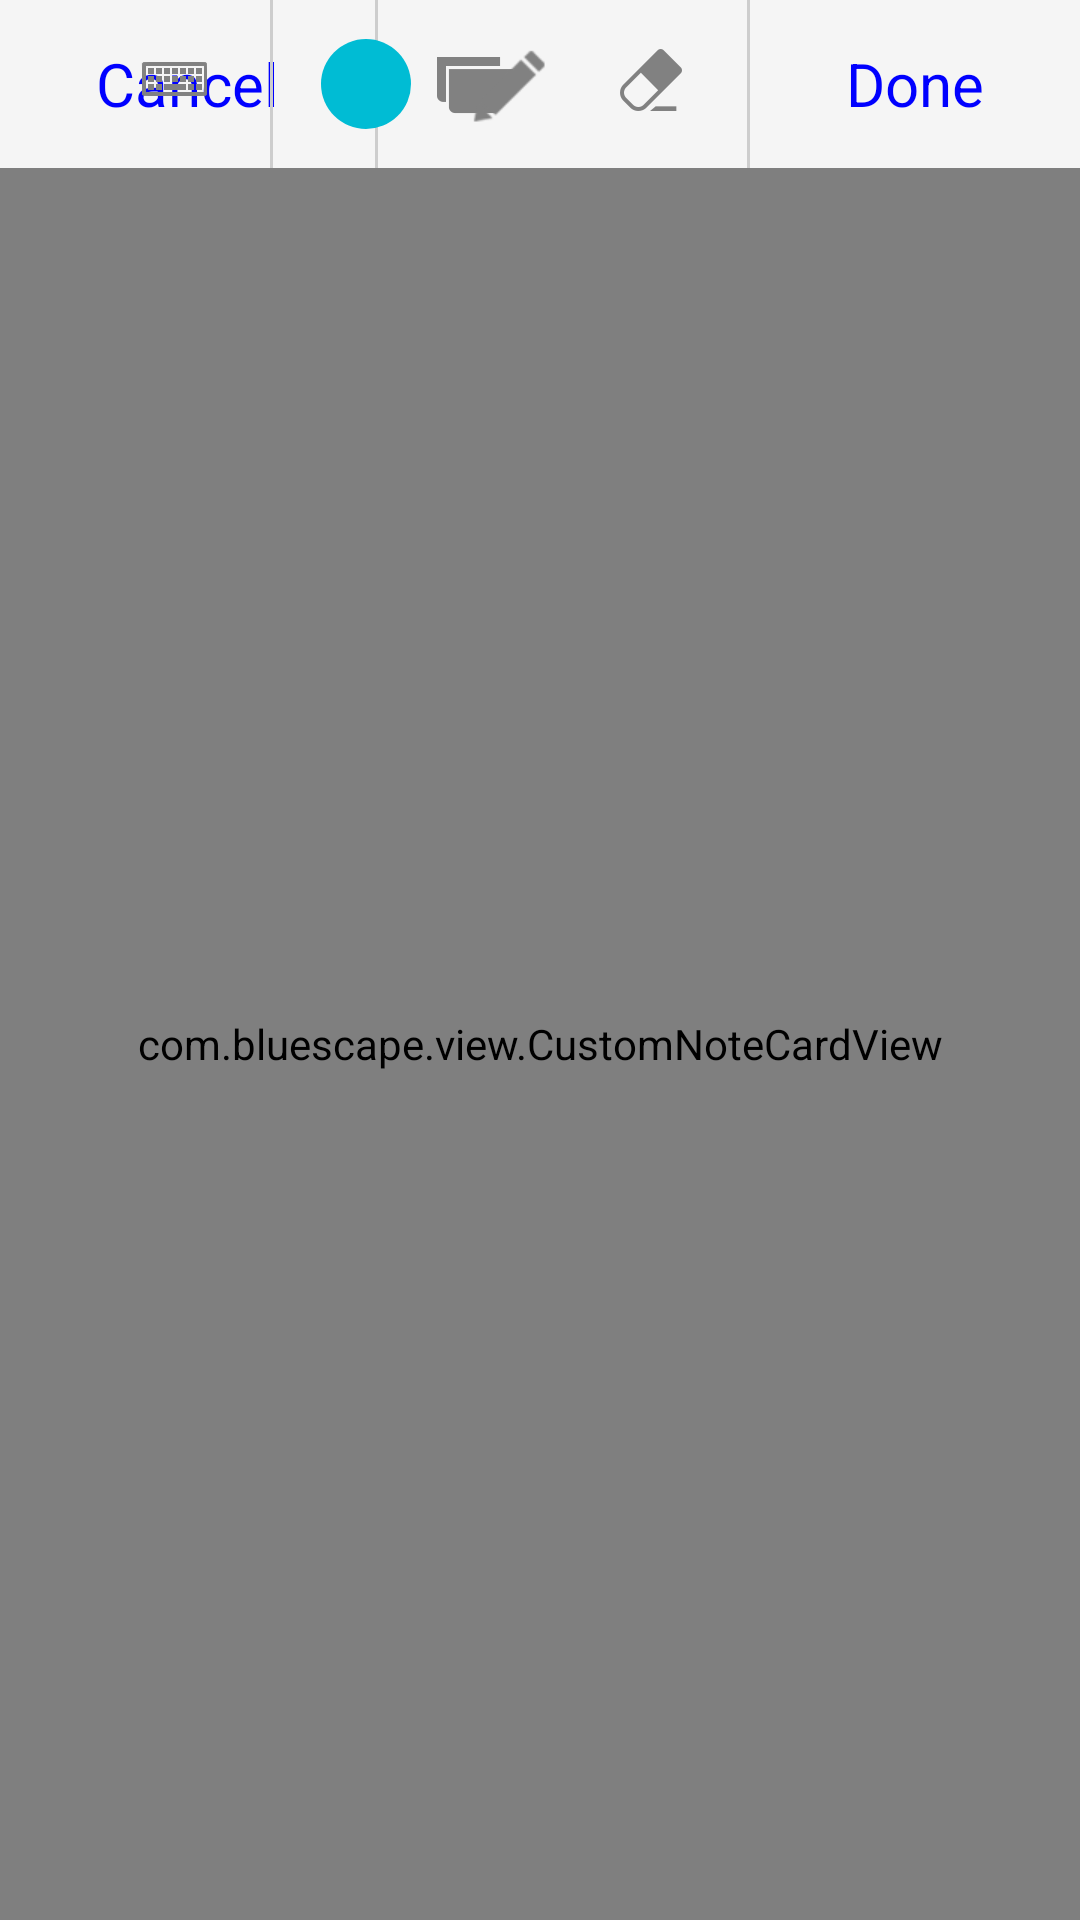

Icons on this 1080x1920 Android screen, each with the point to tap as point (x, y):
erase: point (651, 80)
